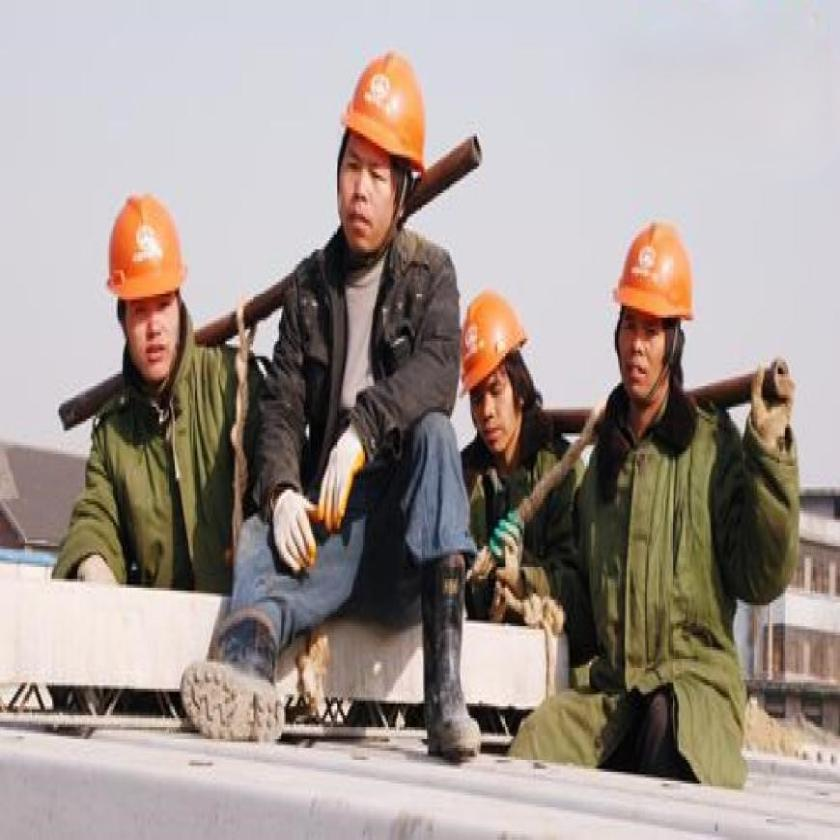Con_casco: (330, 51, 429, 264), (103, 193, 194, 396), (616, 214, 696, 406), (458, 283, 532, 463)
